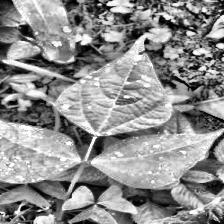Bean Rust: (57, 54, 173, 136), (100, 129, 221, 192), (0, 100, 78, 176), (86, 201, 214, 224)
